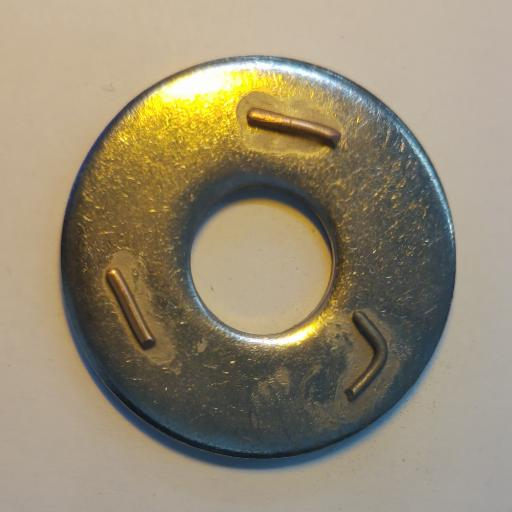excess_material: (246, 106, 342, 151), (105, 267, 156, 351), (344, 310, 389, 403)
